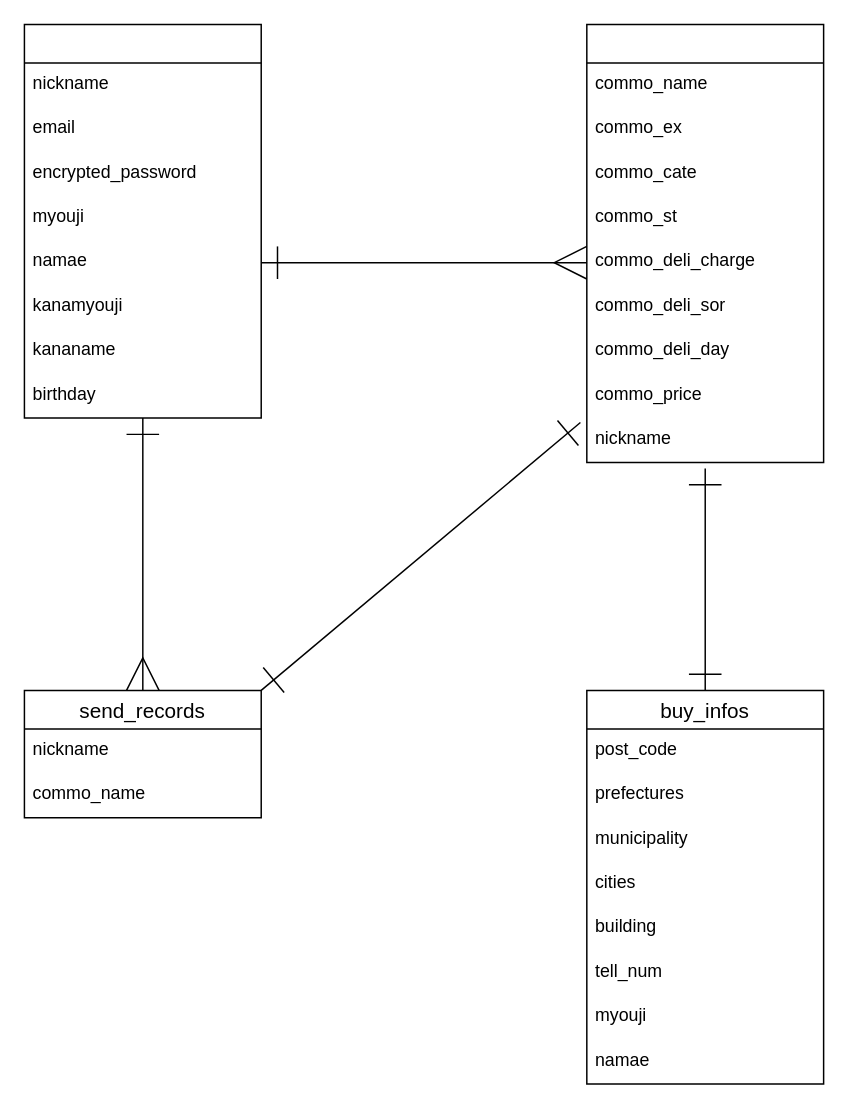
Some shapes in this 848 by 1109 pixel diagram are drawn without their labels. The box of each missing label's shape, as (x1, y1, x2, y2) in pixels:
commo_infos: (585, 23, 824, 462)
users: (23, 23, 261, 418)
